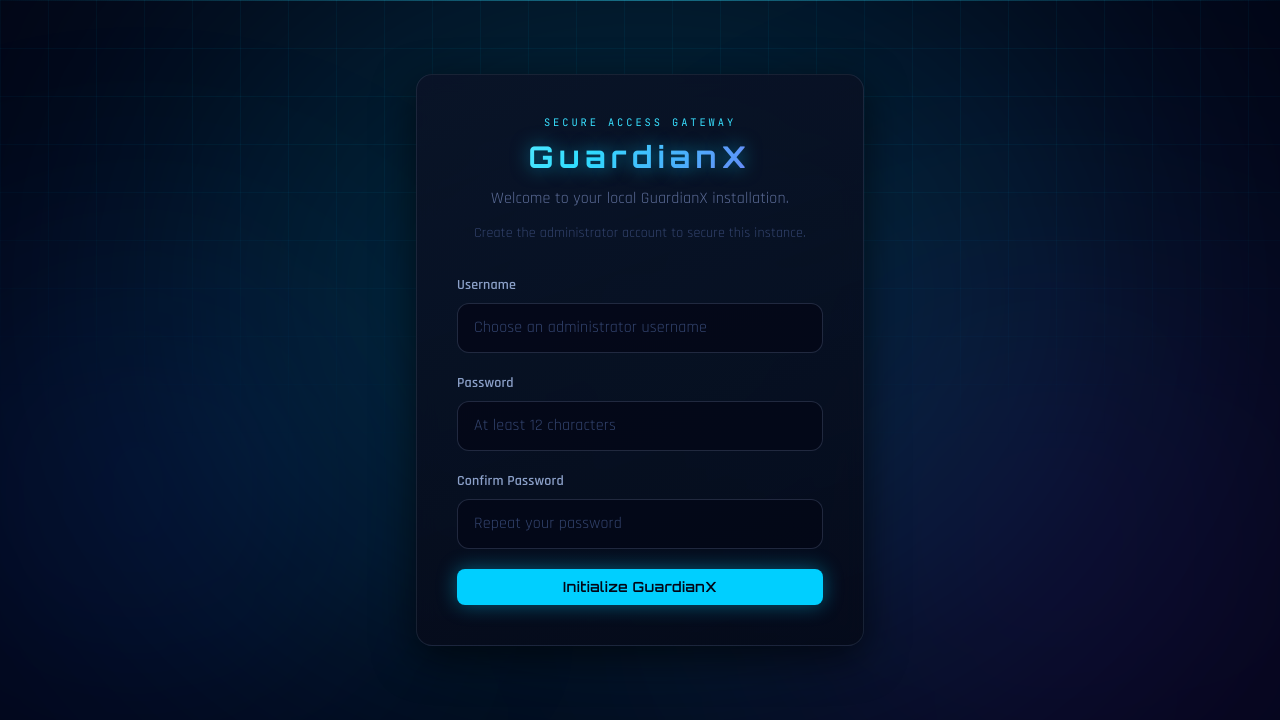
Test: Setup › shows the backend error message on failure
In the field labelled "Username": (640, 328) top-left (457, 303), bottom-right (823, 353), type "admin"
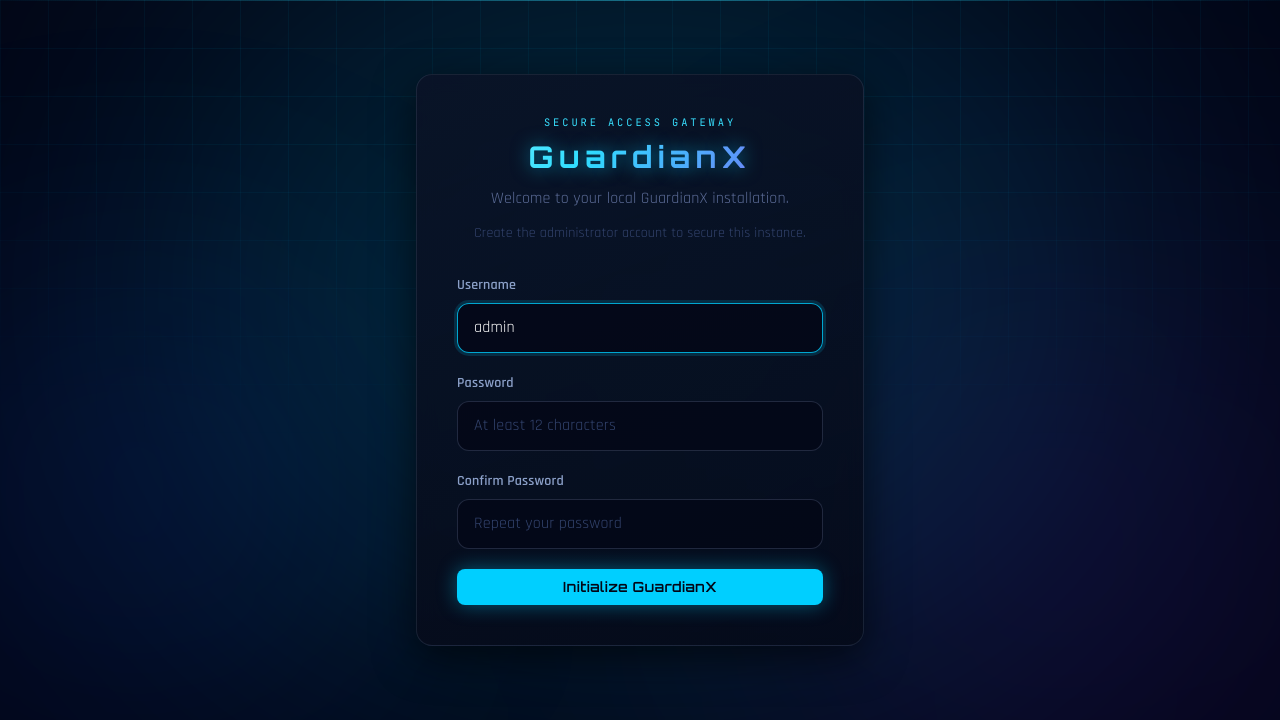
In the password field labelled "Password": (640, 426) top-left (457, 401), bottom-right (823, 451), type "Sup3rStrongPassword1!"
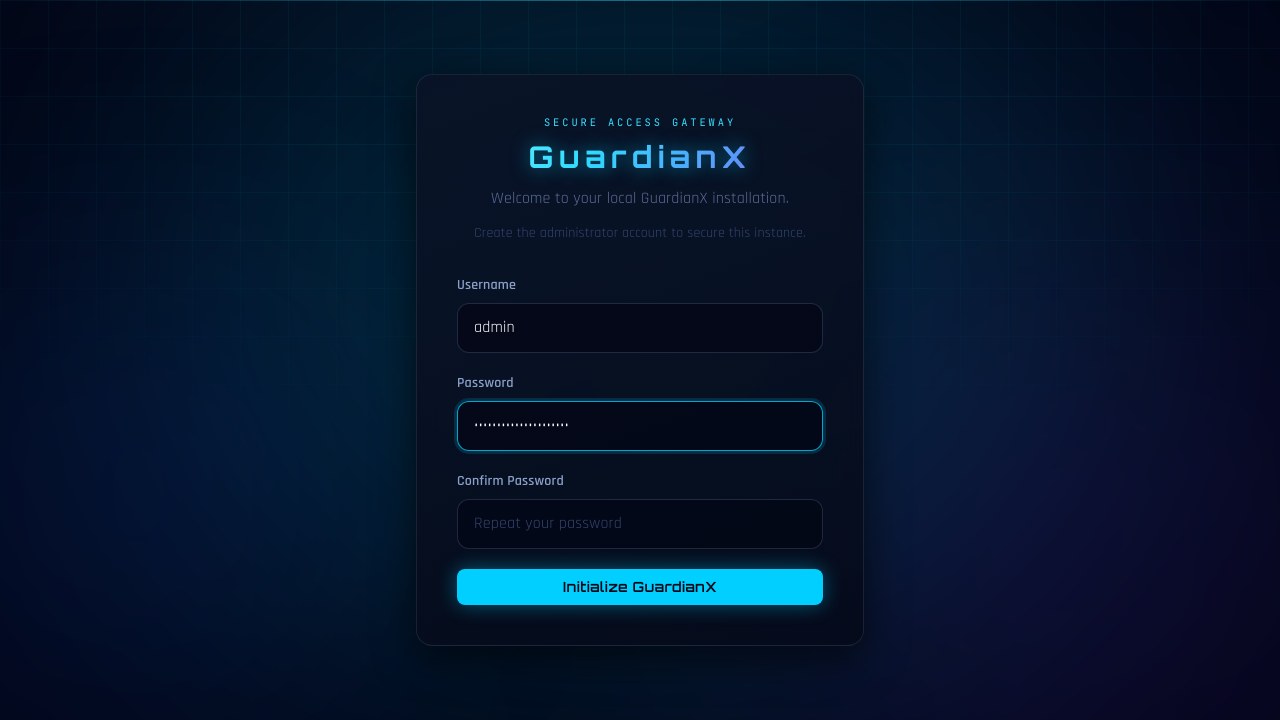
In the password field labelled "Confirm Password": (640, 524) top-left (457, 499), bottom-right (823, 549), type "Sup3rStrongPassword1!"
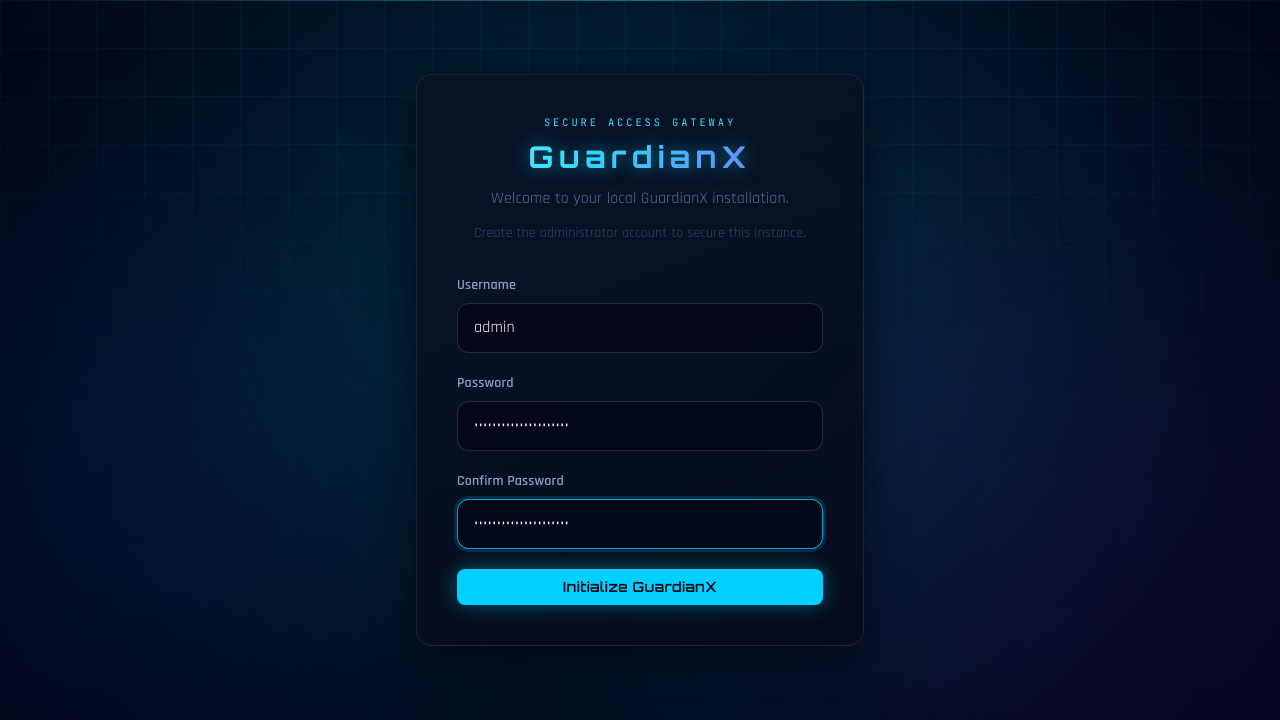
Click the button "Initialize GuardianX": (640, 587) top-left (457, 569), bottom-right (823, 605)
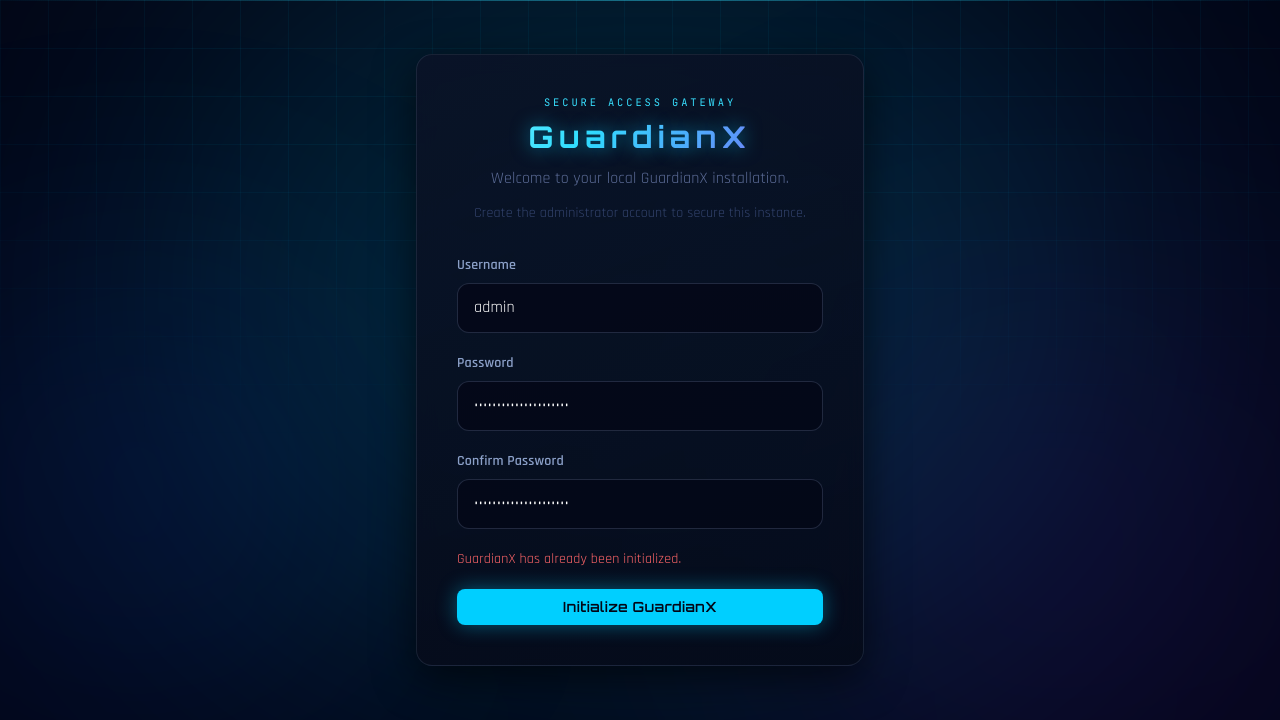
Now the text "GuardianX has already been initialized." is shown, box top-left (457, 550), bottom-right (681, 568)
